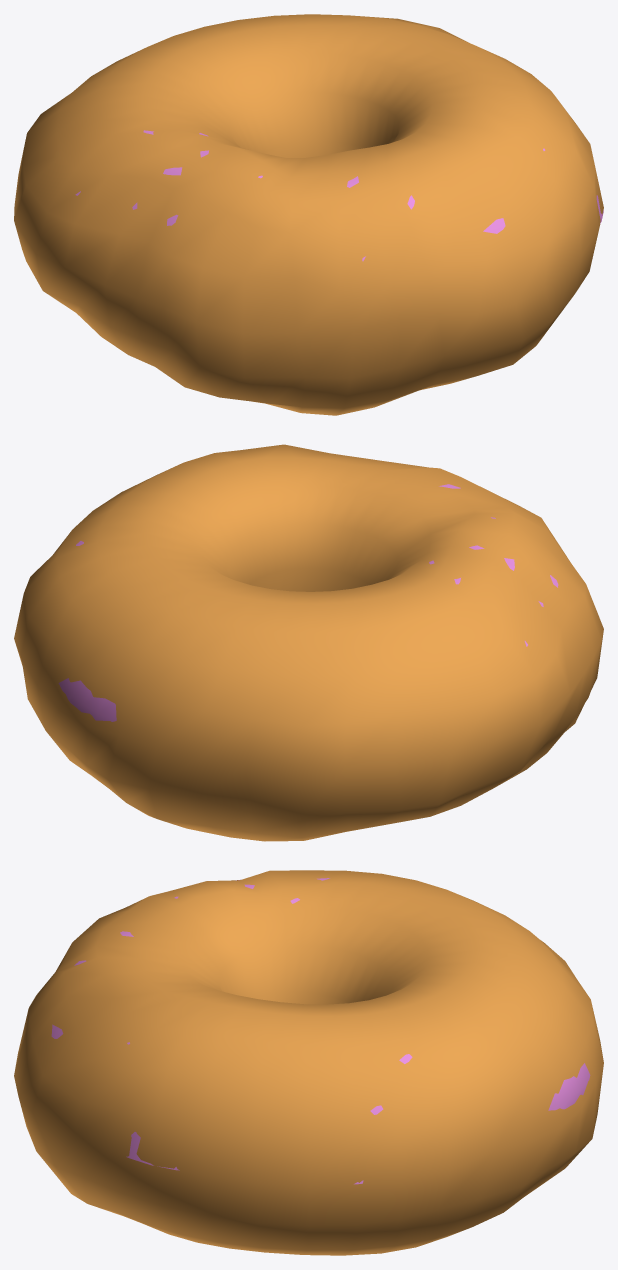
File: DONUT.glb
3 renders of one model, top to bottom at view 1: azimuth 30°, elevation 25°; view 2: azimuth 150°, elevation 25°; view 3: azimuth 270°, elevation 25°, orthographic.
Parts seen in each view (by area): view 1: donut, icing; view 2: donut, icing; view 3: donut, icing.
Part boxes in pixels (box(x1,y1,x2,y2)): donut: box(14, 14, 603, 415); icing: box(75, 130, 603, 261); donut: box(14, 444, 603, 841); icing: box(58, 484, 558, 721); donut: box(14, 870, 603, 1255); icing: box(51, 878, 590, 1184).
Size of what is drawn, in the model's own units: 0.143 by 0.0631 by 0.1444.
